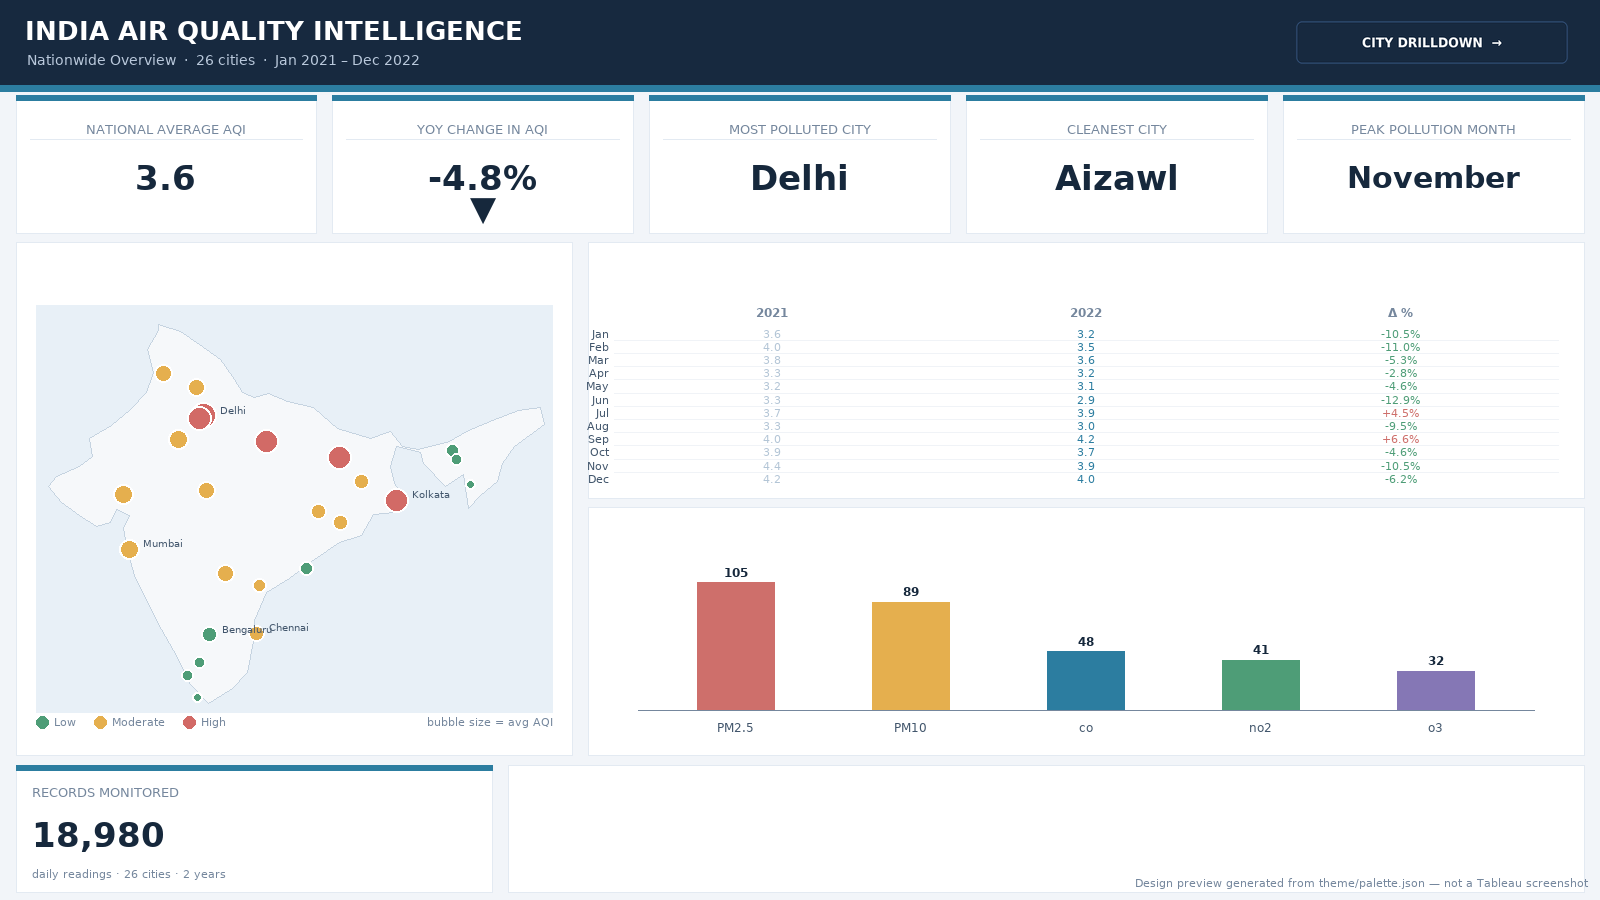

The dashboard page shown, as its layout file describes it:
{"tool":"tableau","page":{"name":"Nationwide Overview","canvas":[1000,1000],"units":"permille","ordinal":0},"visuals":[{"type":"worksheet","title":"National AQI ","mark":"Automatic","box":[10,106,188,153]},{"type":"worksheet","title":"% Change","mark":"Automatic","box":[208,106,188,153]},{"type":"worksheet","title":"Most Polluted City","mark":"Automatic","box":[406,106,188,153]},{"type":"worksheet","title":"Cleanest City","mark":"Automatic","box":[604,106,188,153]},{"type":"worksheet","title":"Peak Pollution Month","mark":"Automatic","box":[802,106,188,153]},{"type":"text","box":[12,179,580,673.7]},{"type":"filter","title":"Total Records Monitored","param":"[federated.0r5ypuv12cy9kq13t07co0hzn2wb].[yr:date:ok]","box":[634,247.4,150,505.3]},{"type":"dashboard-object","box":[810,247.4,170,505.3]},{"type":"worksheet","title":"Map","mark":"Automatic","rows":["Calculation_481885172083154961"],"cols":["Calculation_481885172083470354"],"box":[10,270,348,570]},{"type":"worksheet","title":"Monthly Y Variation","mark":"Automatic","rows":["Calculation_481885172061417487","Calculation_481885172062769168"],"cols":["date"],"box":[368,270,622,284]},{"type":"worksheet","title":"Top 5 Pollutants","mark":"Automatic","rows":["Value"],"cols":["Attribute"],"box":[368,564,622,276]},{"type":"worksheet","title":"Total Records Monitored","mark":"Automatic","box":[10,851,298,141]},{"type":"text","box":[318,851,672,141]}]}

Visuals, with their boxes on the dashboard's canvas, which has no fixed pixel size, in thousandths of its width and height (x1, y1, x2, y2). These are canvas units, not pixel positions in the 1600x900 screenshot, which may show the page scaled, cropped or inside an application window:
"National AQI " worksheet: [x1=10, y1=106, x2=198, y2=259]
"% Change" worksheet: [x1=208, y1=106, x2=396, y2=259]
"Most Polluted City" worksheet: [x1=406, y1=106, x2=594, y2=259]
"Cleanest City" worksheet: [x1=604, y1=106, x2=792, y2=259]
"Peak Pollution Month" worksheet: [x1=802, y1=106, x2=990, y2=259]
text: [x1=12, y1=179, x2=592, y2=853]
"Total Records Monitored" filter: [x1=634, y1=247, x2=784, y2=753]
dashboard-object: [x1=810, y1=247, x2=980, y2=753]
"Map" worksheet: [x1=10, y1=270, x2=358, y2=840]
"Monthly Y Variation" worksheet: [x1=368, y1=270, x2=990, y2=554]
"Top 5 Pollutants" worksheet: [x1=368, y1=564, x2=990, y2=840]
"Total Records Monitored" worksheet: [x1=10, y1=851, x2=308, y2=992]
text: [x1=318, y1=851, x2=990, y2=992]
